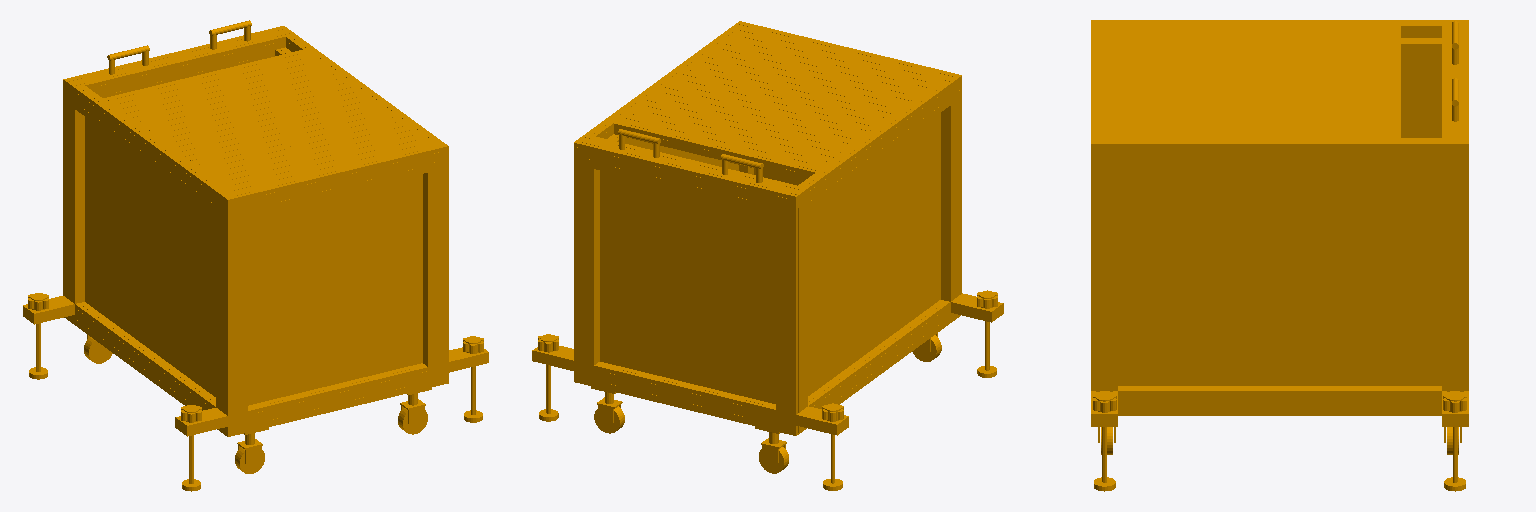
URDF robot description (nic_ak_r_fkt10):
<?xml version="1.0"?>
<robot name="nic_ak_r_fkt10">
<link name="base_link"><visual ><geometry ><mesh filename="../meshes/base_link.obj"/></geometry></visual><collision ><origin xyz="0 0 0.4" rpy="0 0 0"/><geometry ><box size="0.65 0.84 0.8"/></geometry></collision><collision ><origin xyz="0 0.39 0.8275" rpy="0 0 0"/><geometry ><box size="0.42 0.02 0.055"/></geometry></collision><collision ><origin xyz="-0.385 -0.39 0.111" rpy="0 0 0"/><geometry ><box size="0.12 0.064 0.222"/></geometry></collision><collision ><origin xyz="-0.385 0.39 0.111" rpy="0 0 0"/><geometry ><box size="0.12 0.064 0.222"/></geometry></collision><collision ><origin xyz="0.385 -0.39 0.111" rpy="0 0 0"/><geometry ><box size="0.12 0.064 0.222"/></geometry></collision><collision ><origin xyz="0.385 0.39 0.111" rpy="0 0 0"/><geometry ><box size="0.12 0.064 0.222"/></geometry></collision></link>
<link name="mount"></link>
<link name="robot_mount"></link>
<joint name="mount_joint" type="fixed"><parent link="base_link"/><child link="mount"/><origin xyz="0 0 0" rpy="0 0 0"/></joint>
<joint name="robot_mount_joint" type="fixed"><parent link="base_link"/><child link="robot_mount"/><origin xyz="0 -0.045 0.8" rpy="0 0 0"/></joint>
</robot>

--- Facts derived from the render (not from the file) ---
The picture shows the robot from 3 angles, left to right: view 1: azimuth 30°, elevation 25°; view 2: azimuth 150°, elevation 25°; view 3: azimuth 270°, elevation 25°; orthographic projection.
Robot: nic_ak_r_fkt10 — 3 links, 2 joints (2 fixed); root link base_link; default pose: every joint at zero.
Links seen in each view (by area): view 1: base_link; view 2: base_link; view 3: base_link.
Link boxes in pixels (x1,y1,x2,y2): base_link: (23,20,488,491); base_link: (532,21,1003,490); base_link: (1091,20,1468,491).
Size in the robot's own frame: 0.89 by 0.8406 by 0.853 metres.
1 mesh visuals loaded from 1 distinct referenced files (1 OBJ).
